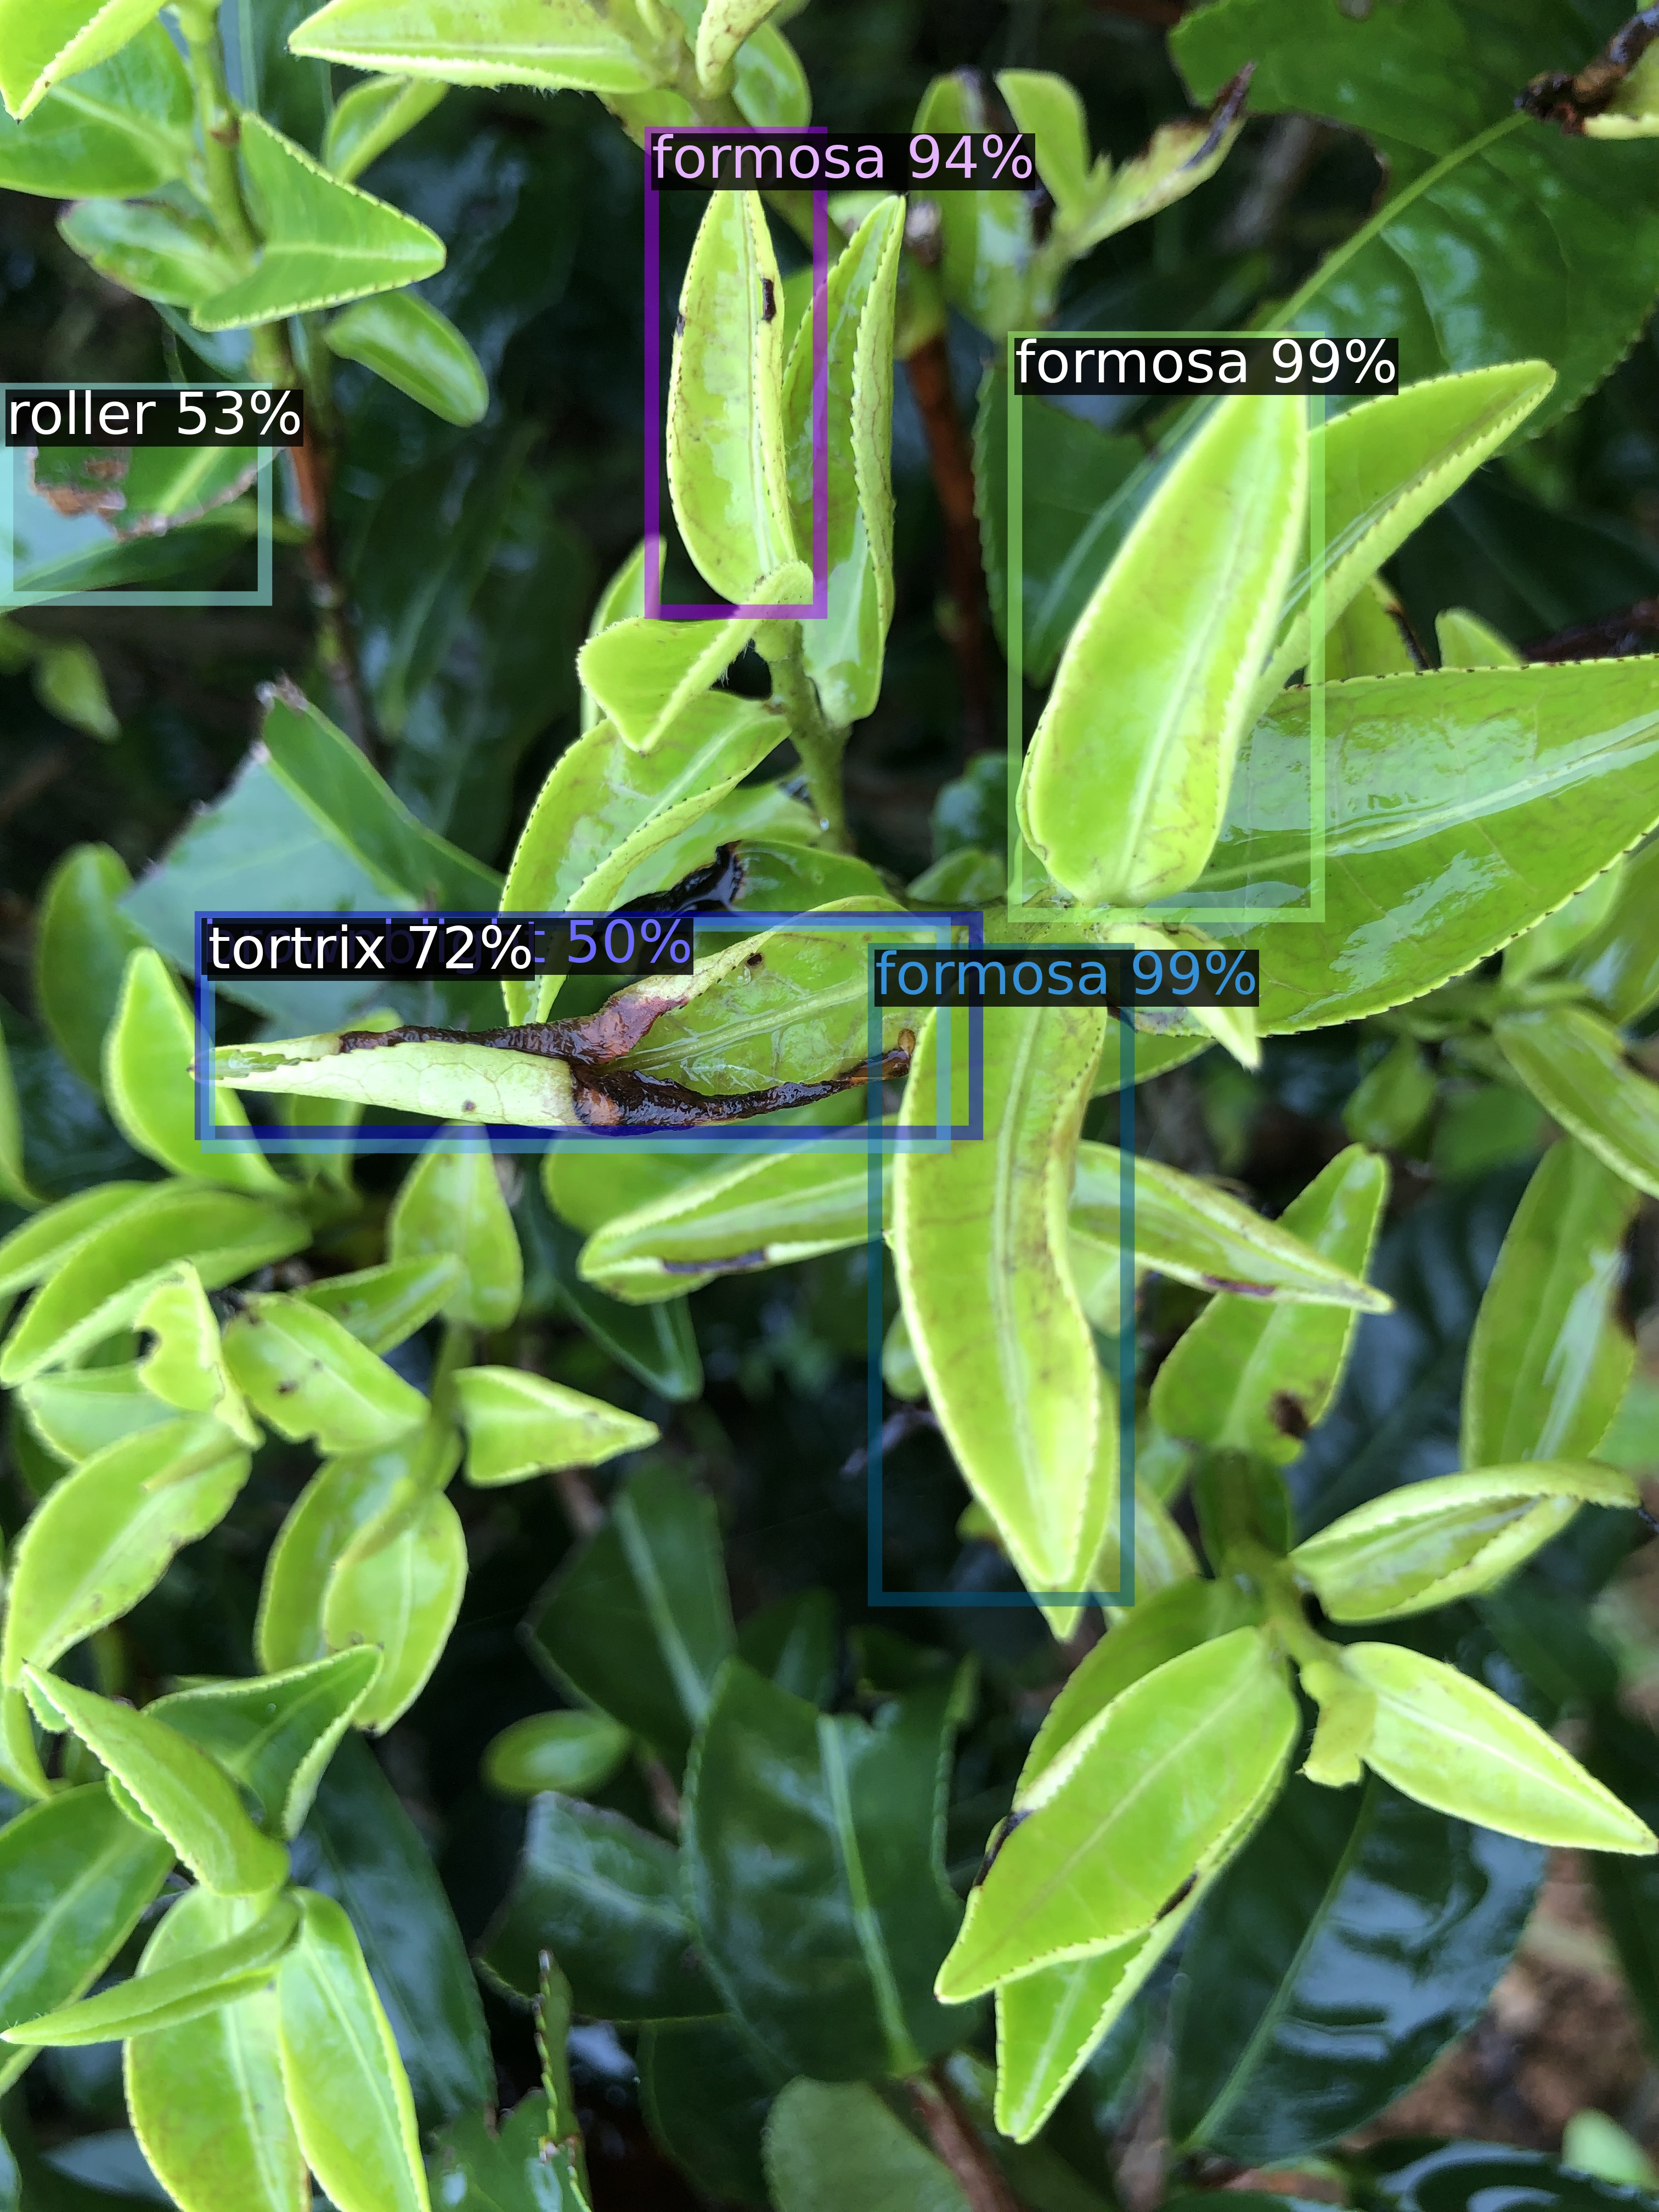brownblight: (202, 918, 976, 1132)
formosa: (1014, 338, 1317, 914), (875, 951, 1127, 1599), (652, 134, 821, 611)
roller: (5, 390, 265, 599)
tortrix: (207, 925, 943, 1146)
